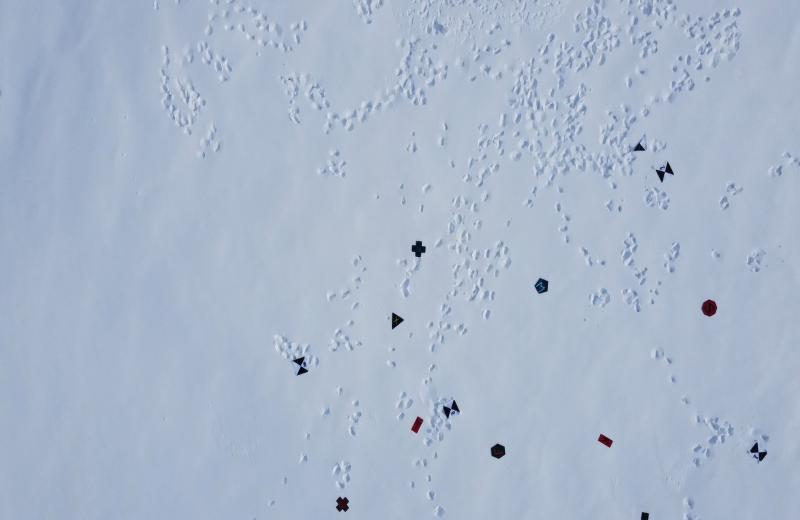Cross: (409, 240, 427, 259), (334, 495, 352, 514)
Hexagon: (489, 442, 507, 461)
Octagon: (700, 298, 718, 320)
Pentagon: (534, 277, 550, 296)
Rectangle: (596, 432, 615, 453), (408, 414, 426, 436)
Square: (640, 510, 650, 520)
Triangle: (389, 310, 405, 330)
